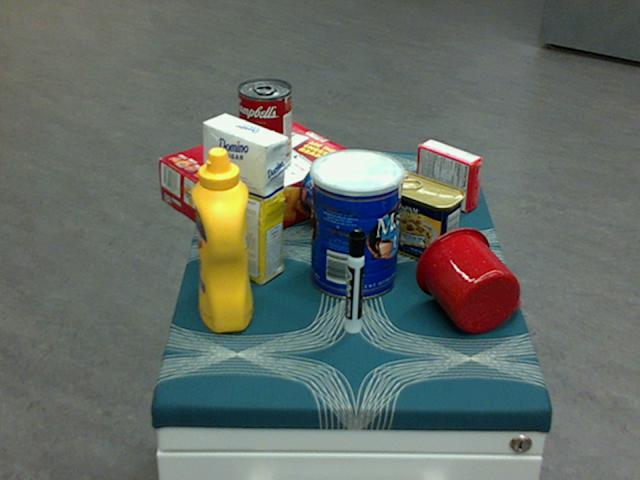cracker_box: (158, 117, 361, 250)
gelatin_box: (416, 139, 483, 212)
large_marker: (345, 228, 364, 334)
master_chef_can: (310, 149, 404, 299)
mug: (415, 226, 521, 332)
mustard_bottle: (191, 148, 252, 332)
potted_meat_can: (378, 171, 465, 262)
sugar_box: (202, 114, 286, 286)
tomato_soup_can: (237, 79, 292, 173)
tuna_fish_can: (298, 156, 367, 225)
